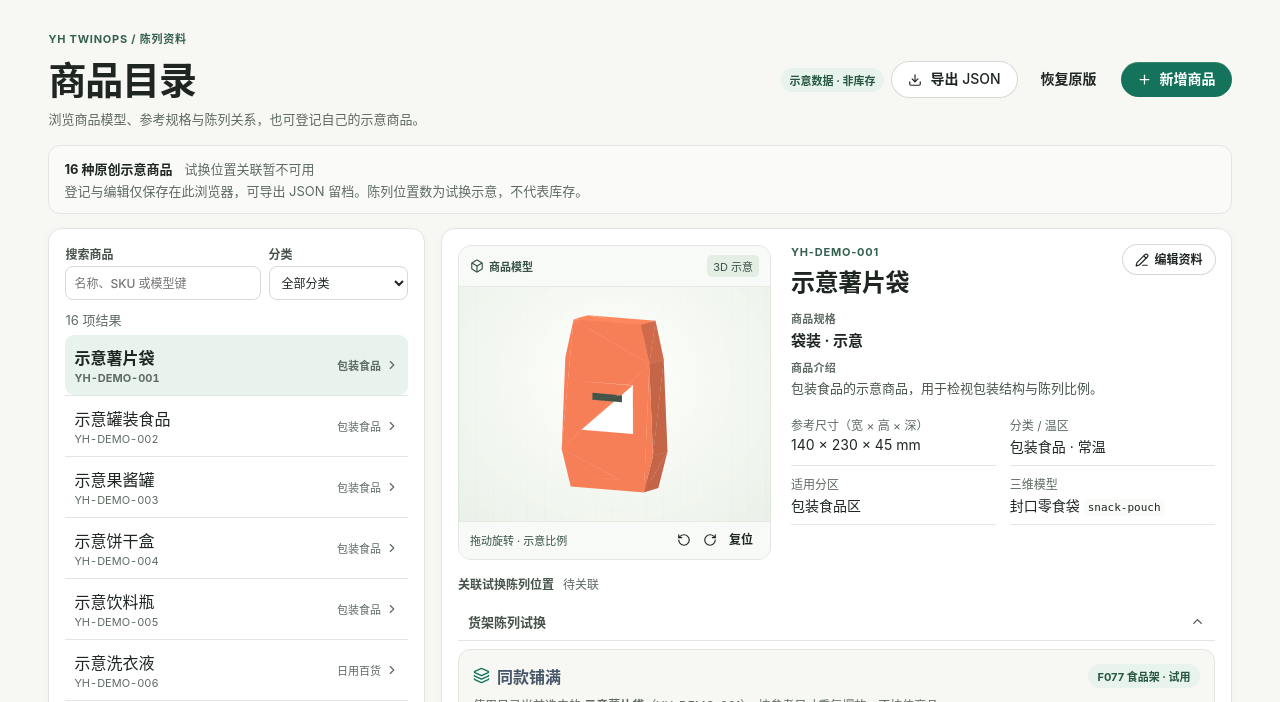
it: uses catalog selection, previews each scope without applying, applies explicit request and reverts
The image size is (1280, 702).
Later steps or results of the test are not shown.
Type "YH-DEMO-004" into the search field labelled "搜索商品".
click(163, 283); type("YH-DEMO-004")  # box [65,266,260,300]
(page scrolled)
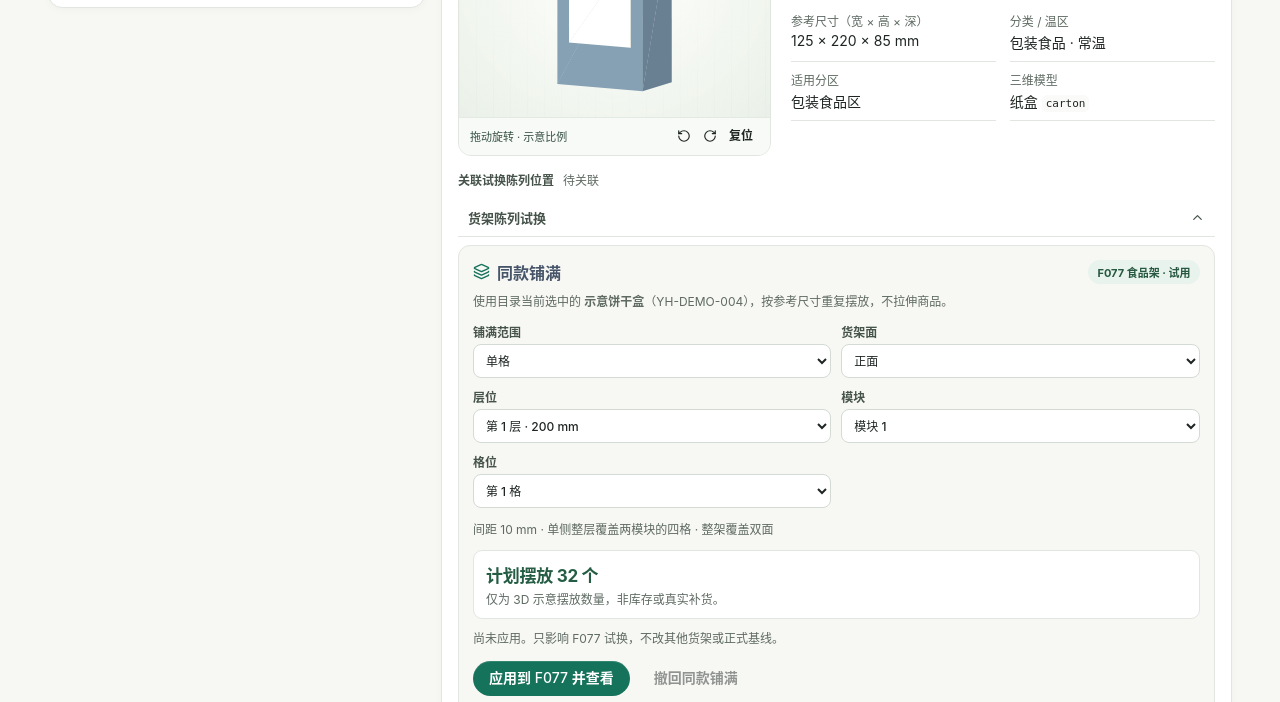
Expected: the text "计划摆放 32 个" is shown, [486,566,598,586]
Expected: the button "撤回同款铺满" is disabled, [638,661,754,696]
Select "第 2 格" in the dropdown labelled "格位" at x=652, y=491, box [473,474,831,508]
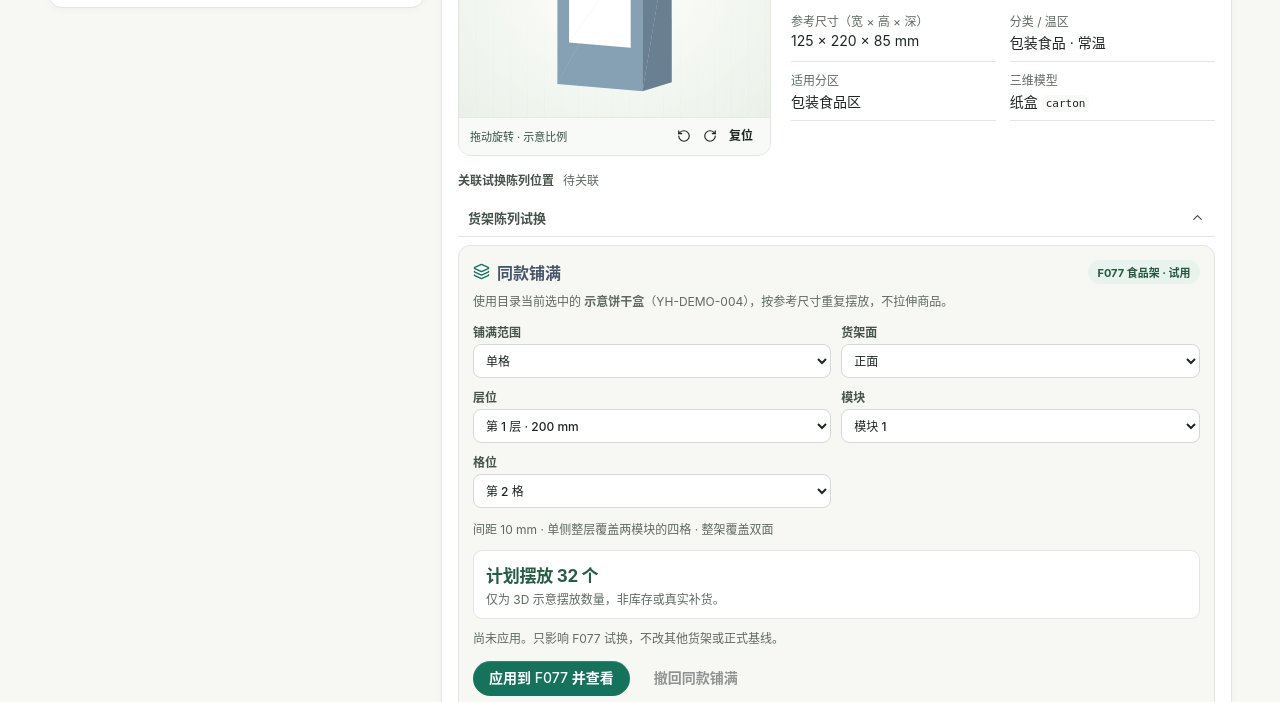
Select "单侧整层" in the dropdown labelled "铺满范围" at x=652, y=361, box [473,344,831,378]
(page scrolled)
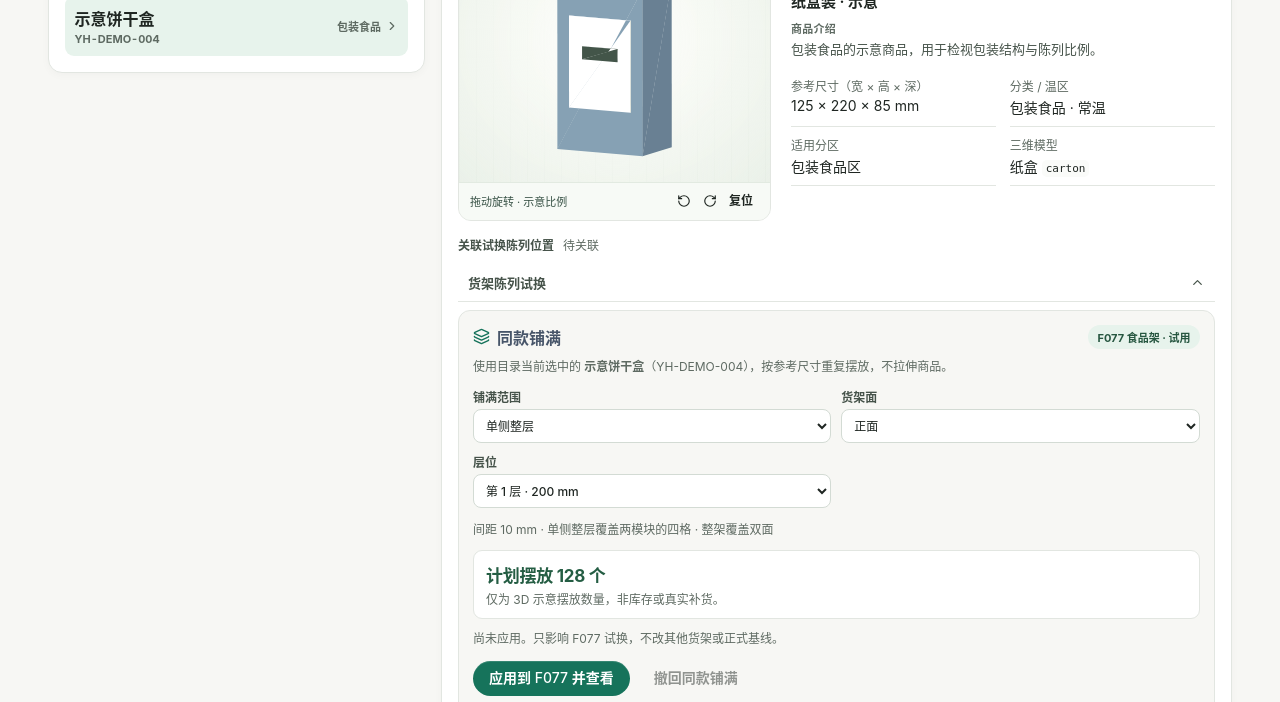
Result: the label labelled "格位" is gone
Result: the text "计划摆放 128 个" is shown at [486,566,606,586]
Select "整架双面" in the dropdown labelled "铺满范围" at x=652, y=426, box [473,409,831,443]
(page scrolled)
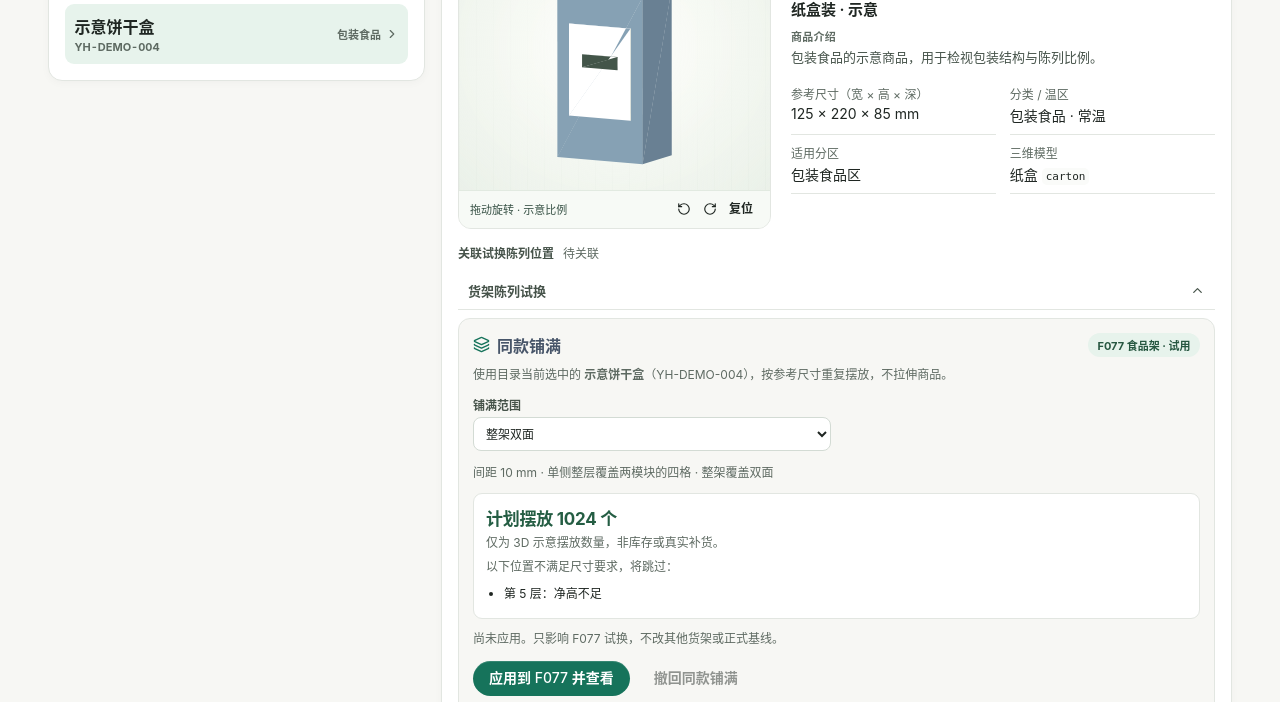
Result: the label labelled "货架面" is gone
Result: the list item "第 5 层：净高不足" is shown at [504,586,602,601]
Result: the text "计划摆放 1024 个" is shown at [486,509,617,529]
